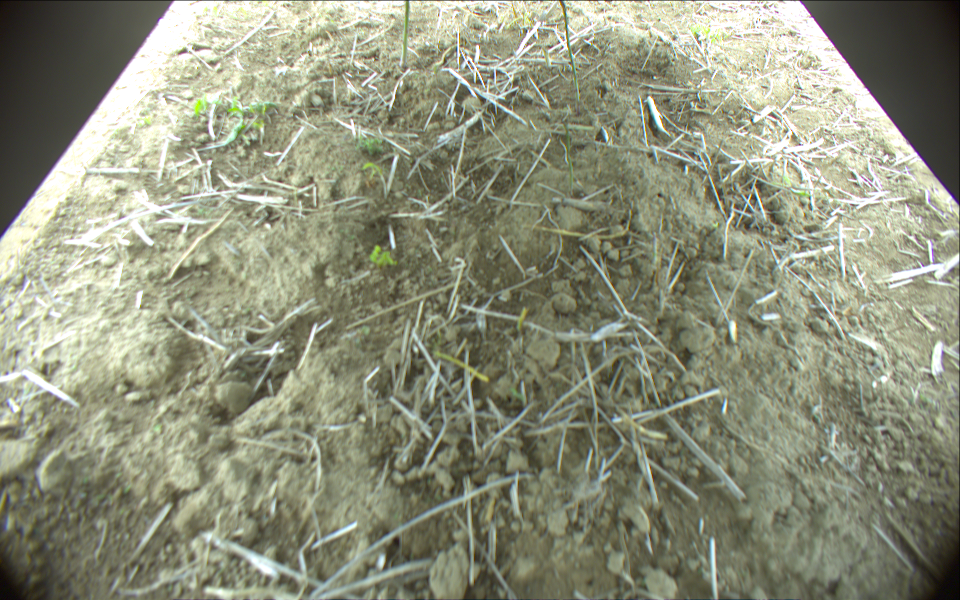aspa: (559, 1, 583, 93), (399, 1, 410, 68)
